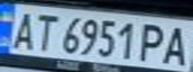1: (115, 19, 142, 60)
5: (96, 17, 121, 59)
6: (57, 13, 84, 55)
9: (75, 16, 100, 56)
A: (157, 23, 193, 66), (6, 8, 39, 51)
P: (136, 20, 172, 63)
T: (27, 10, 60, 52)
